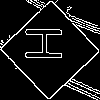H: (25, 25, 72, 63)
